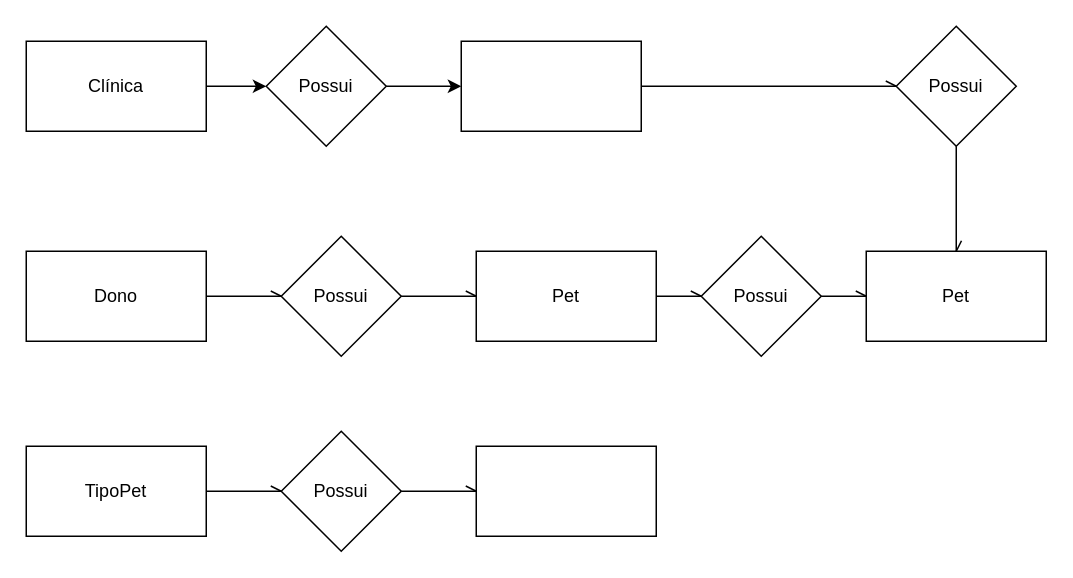
This 1073x578 diagram has some shape labels left out. Each missing label, with the centre of its shape:
"Raça" belongs at (565,490).
"Veterinário" belongs at (550,85).
